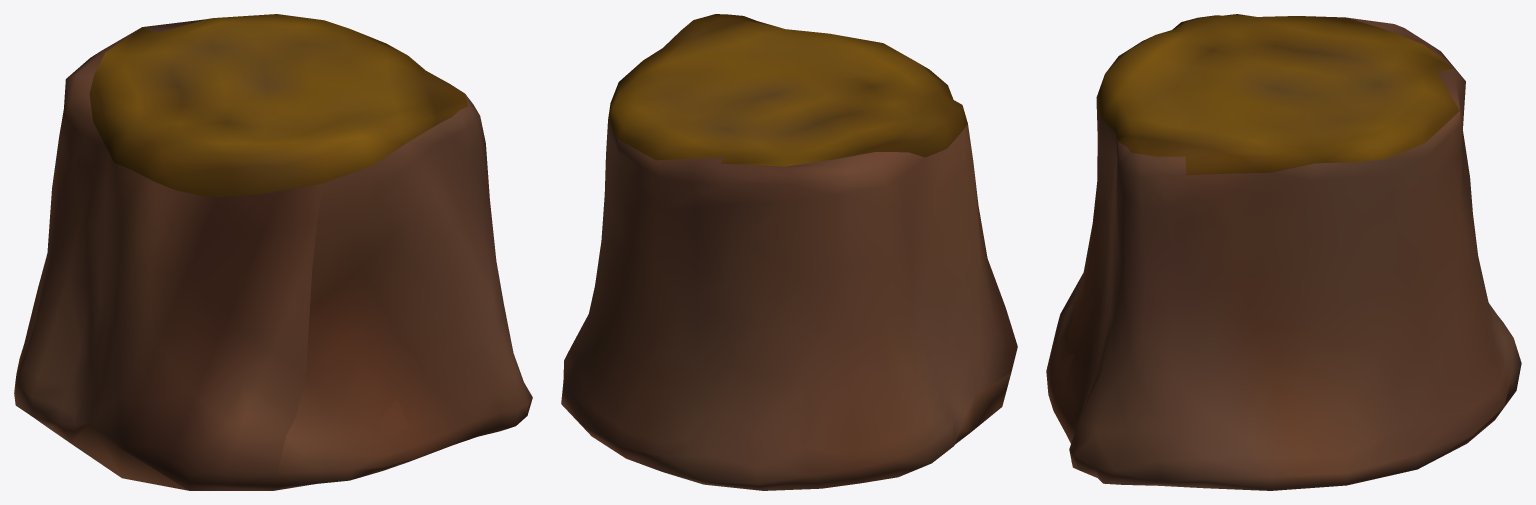
The model's file is Tree_Trunk.fbx.
3 renders of one model, left to right at view 1: azimuth 30°, elevation 25°; view 2: azimuth 150°, elevation 25°; view 3: azimuth 270°, elevation 25°, orthographic. The views are drawn at different scales.
Parts seen in each view (by area): view 1: Tree_Trunk; view 2: Tree_Trunk; view 3: Tree_Trunk.
Boxes of the visible parts, left/top/right/bottom form: Tree_Trunk: left=14, top=14, right=532, bottom=490; Tree_Trunk: left=561, top=14, right=1017, bottom=490; Tree_Trunk: left=1046, top=14, right=1521, bottom=490.
Bounding box in the file's own units: 16.17 × 12.1 × 16.34.
